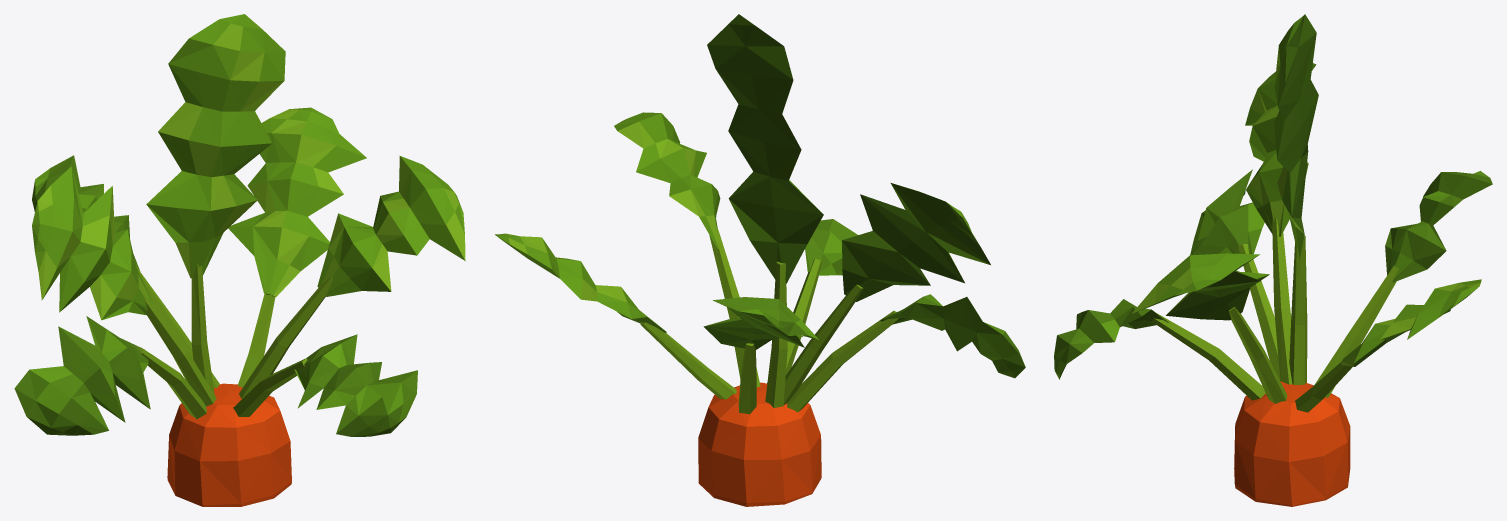
Rendered from Carrot Plant.glb.
3 renders of one model, left to right at view 1: azimuth 30°, elevation 25°; view 2: azimuth 150°, elevation 25°; view 3: azimuth 270°, elevation 25°, orthographic.
Visible parts, largest first — view 1: Carrot Plant; view 2: Carrot Plant; view 3: Carrot Plant.
Boxes of the visible parts, left/top/right/bottom form: Carrot Plant: left=14, top=14, right=465, bottom=506; Carrot Plant: left=495, top=14, right=1025, bottom=506; Carrot Plant: left=1054, top=14, right=1492, bottom=506.
Bounding box in the file's own units: 0.705 × 0.72 × 0.6151.
